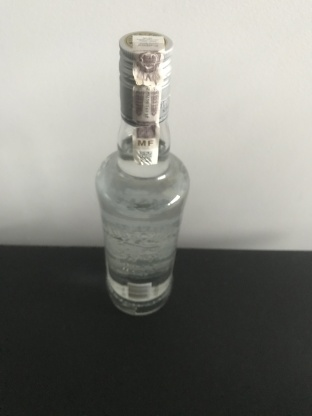nakretka: (116, 29, 174, 126)
